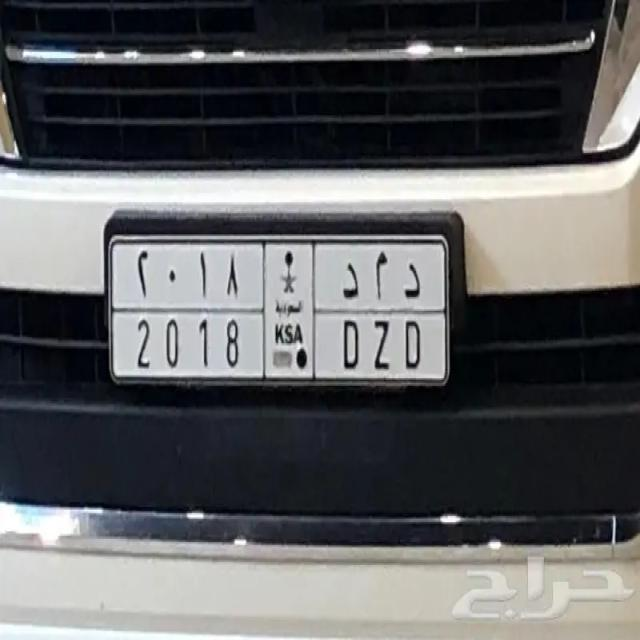license_plate: (110, 305, 452, 386)
